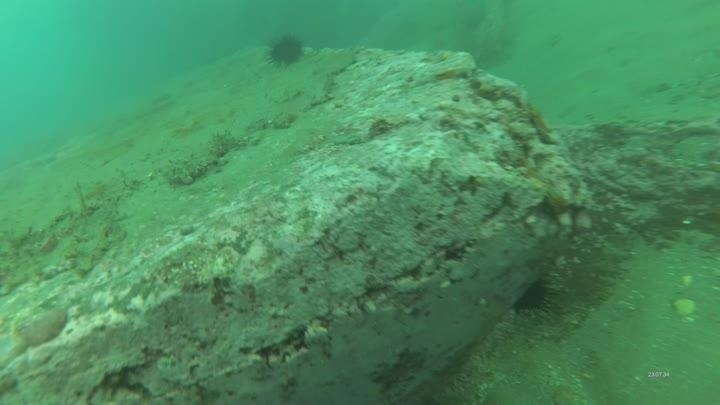echinus: (510, 274, 559, 316), (264, 32, 307, 69)
